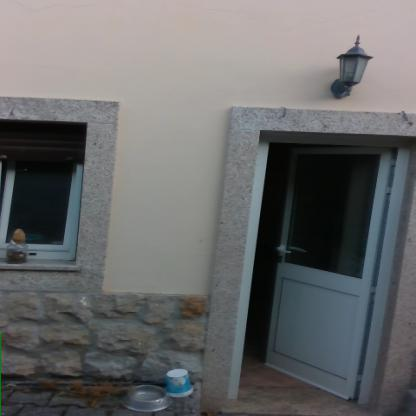semi: (221, 122, 415, 412)
